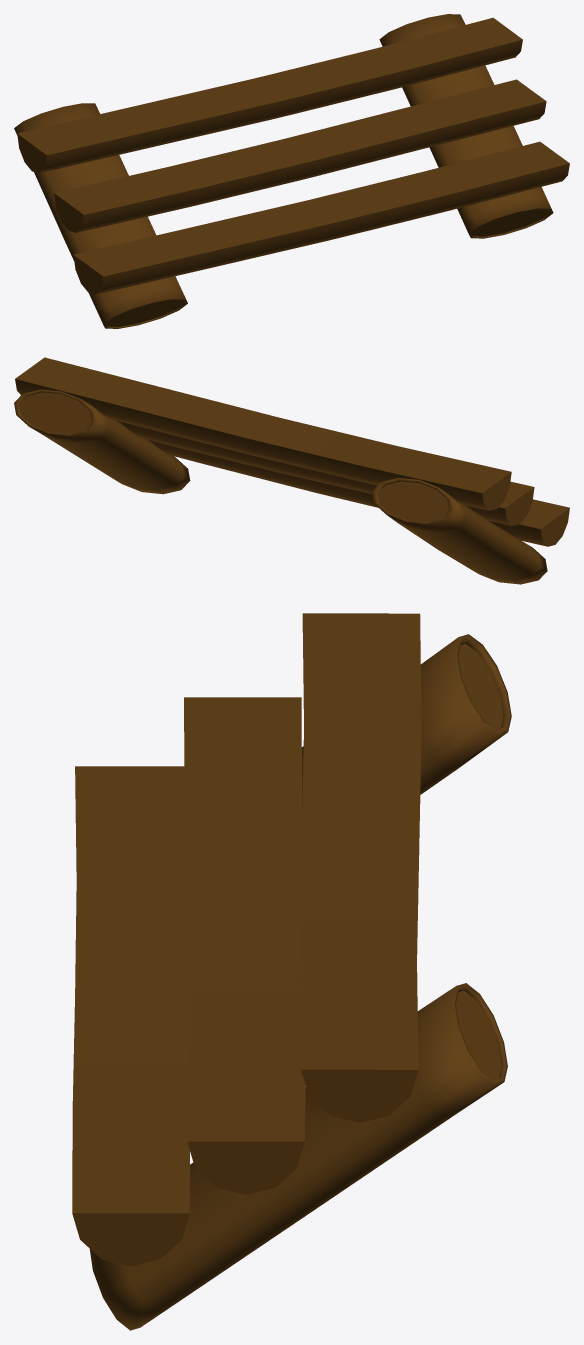
File: small.glb
3 views of the same model, one above another, from view 1: azimuth 30°, elevation 25°; view 2: azimuth 150°, elevation 25°; view 3: azimuth 270°, elevation 25° (orthographic). The views are drawn at different scales.
Parts seen in each view (by area): view 1: LogStaris_03_GEO; view 2: LogStaris_03_GEO; view 3: LogStaris_03_GEO.
Boxes of the visible parts, x1,y1,x2,y2 form: LogStaris_03_GEO: (14,14,569,328); LogStaris_03_GEO: (14,357,569,584); LogStaris_03_GEO: (72,613,511,1330).
Bounding box in the file's own units: 2.06 × 0.6637 × 0.8338.
